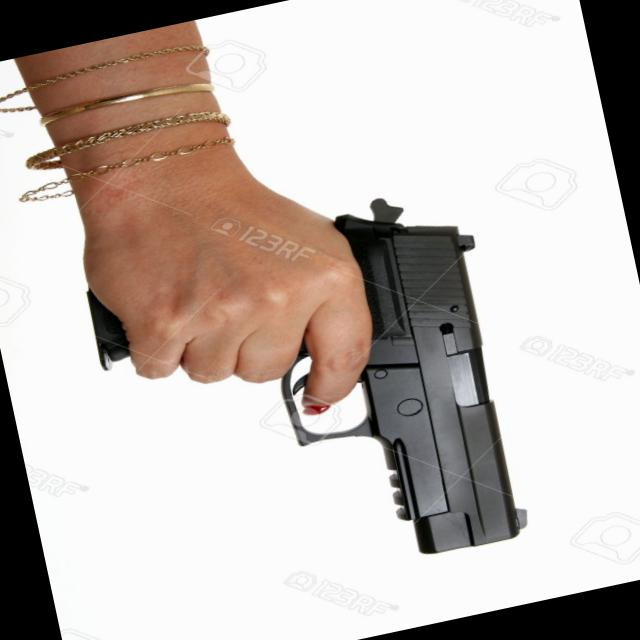handgun: (68, 171, 543, 617)
